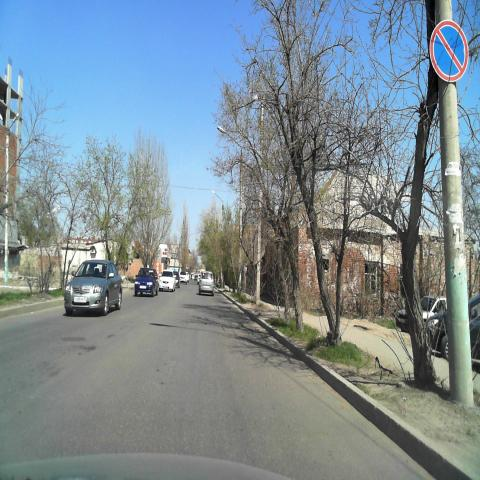3_28: (429, 19, 469, 83)
